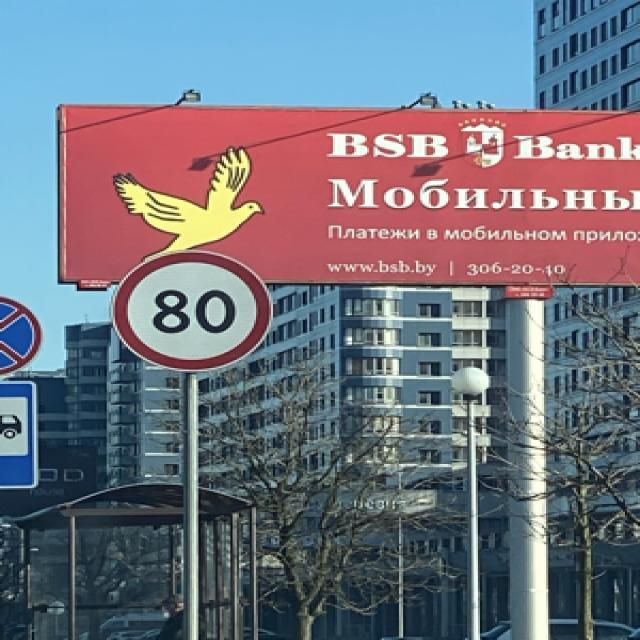speed limit 80: (113, 251, 274, 375)
